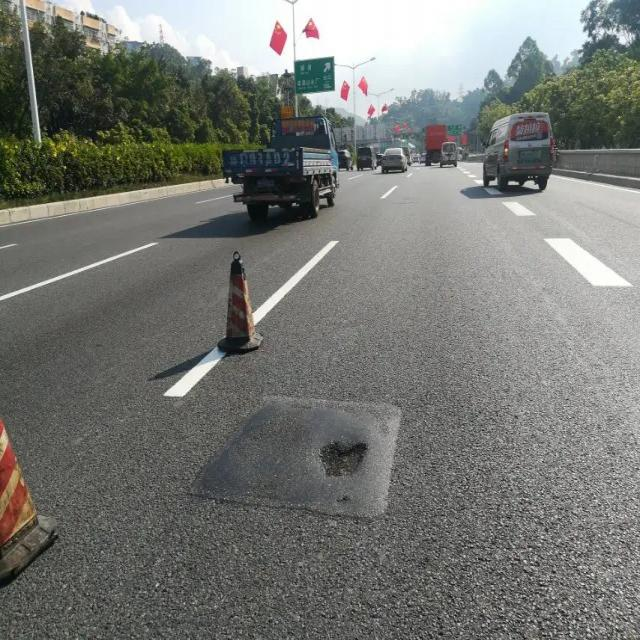Pothole: (310, 431, 370, 486)
